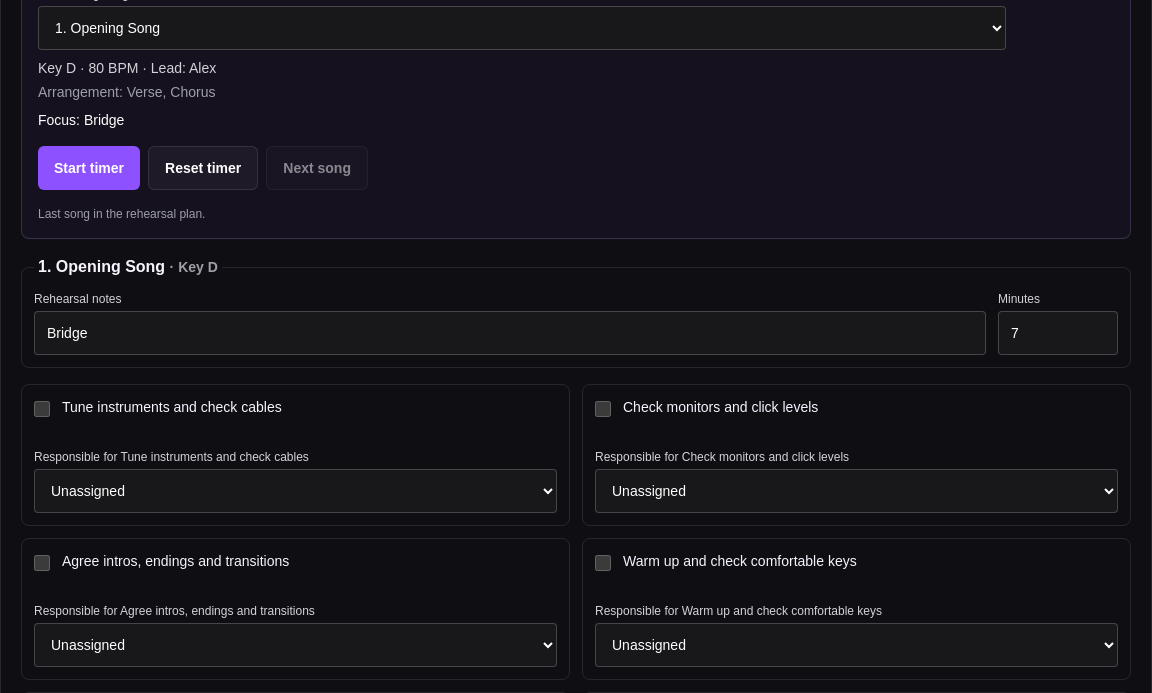
Scenario: PracticeToolsPanel › updates the timer after a successful shared plan save
(page scrolled)
Replace the text in the number field named "Minutes for Opening Song" with "9" at point(1058, 333), box [998,311,1118,355]
(page scrolled)
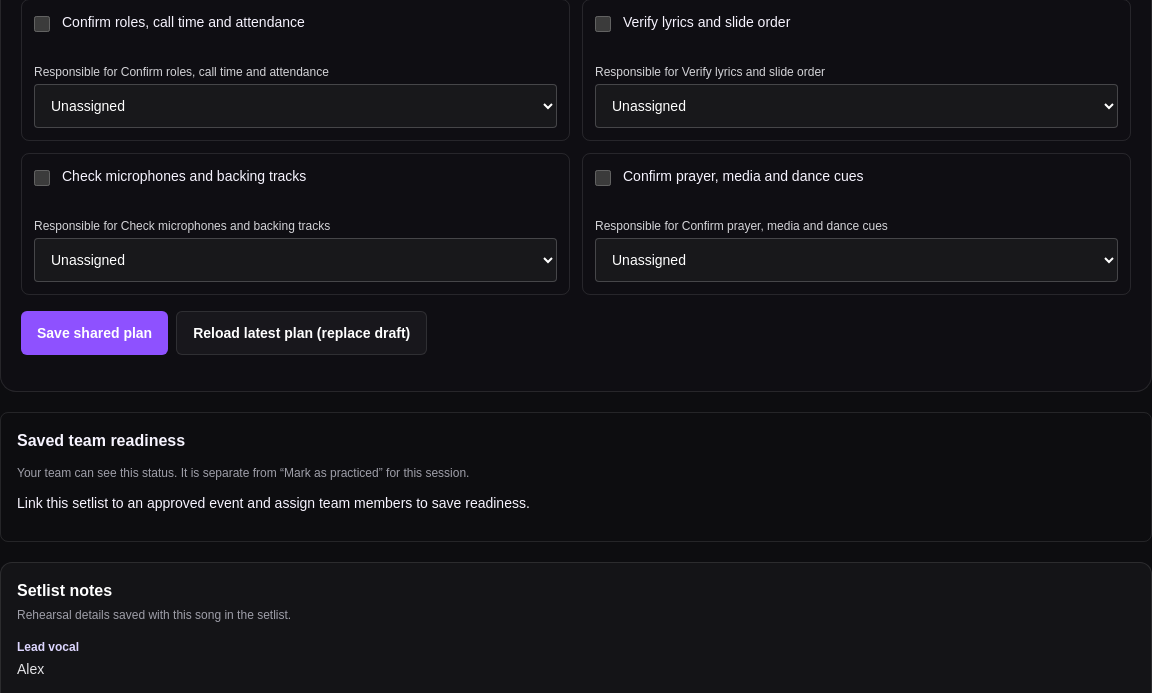
Click the button "Save shared plan" at point(95, 333), box [21,311,168,355]
(page scrolled)
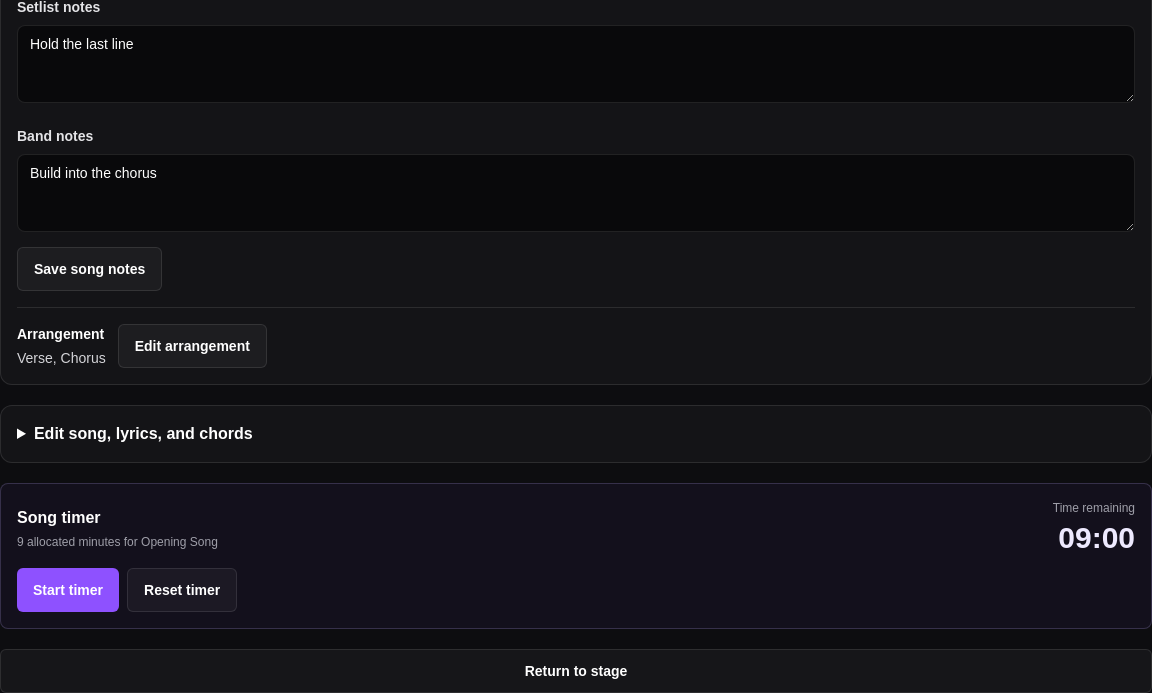
Expected: the text "9 allocated minutes for Opening Song" is shown, [17,534,218,550]
